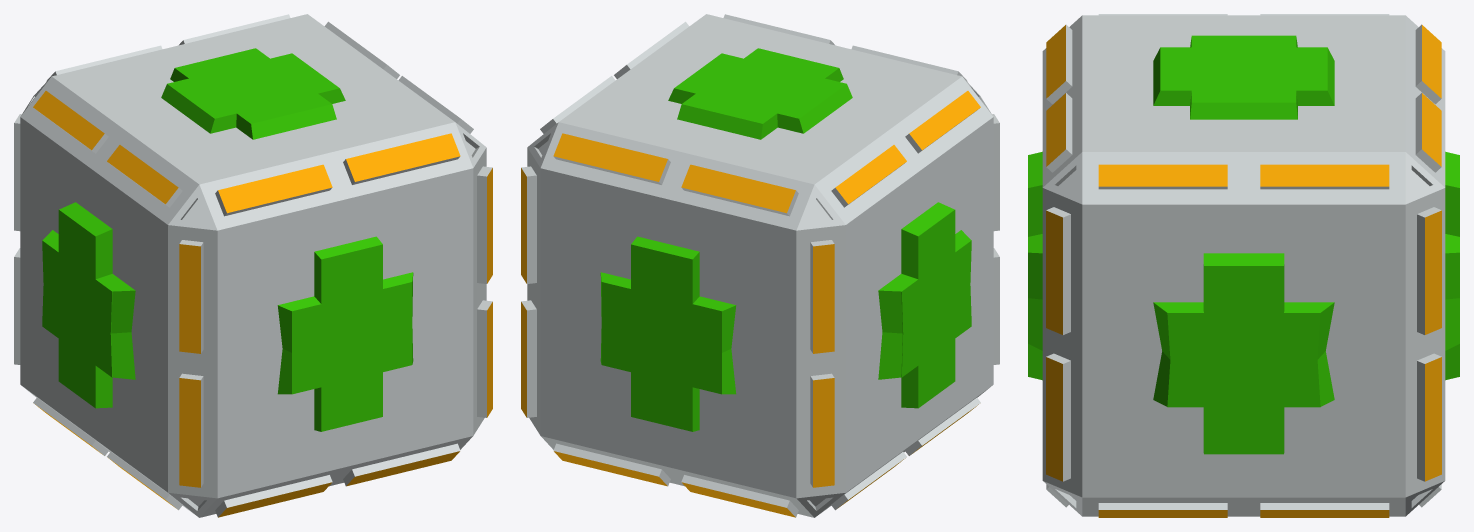
The model's file is health_box.fbx.
3 views of the same model, side by side, from view 1: azimuth 30°, elevation 25°; view 2: azimuth 150°, elevation 25°; view 3: azimuth 270°, elevation 25° (orthographic). The views are drawn at different scales.
Visible parts, largest first — view 1: Cube; view 2: Cube; view 3: Cube.
Boxes of the visible parts, left/top/right/bottom form: Cube: left=14, top=14, right=492, bottom=517; Cube: left=521, top=14, right=999, bottom=517; Cube: left=1028, top=14, right=1459, bottom=517.
Size of the model in its own units: 221 by 216 by 215.
